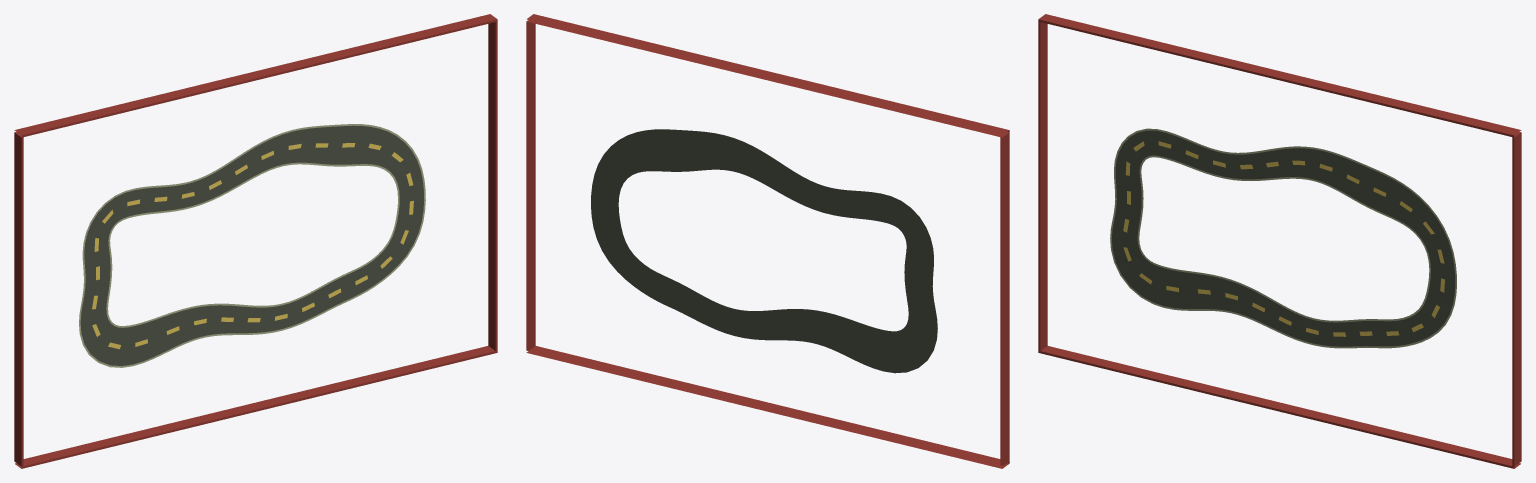
Rendered from track.obj.
3 renders of one model, left to right at view 1: azimuth 30°, elevation 25°; view 2: azimuth 150°, elevation 25°; view 3: azimuth 330°, elevation 25°, orthographic.
Bounding box in the file's own units: 11.28 × 7.55 × 0.3.
Materials: 4 (4 with a texture image).
